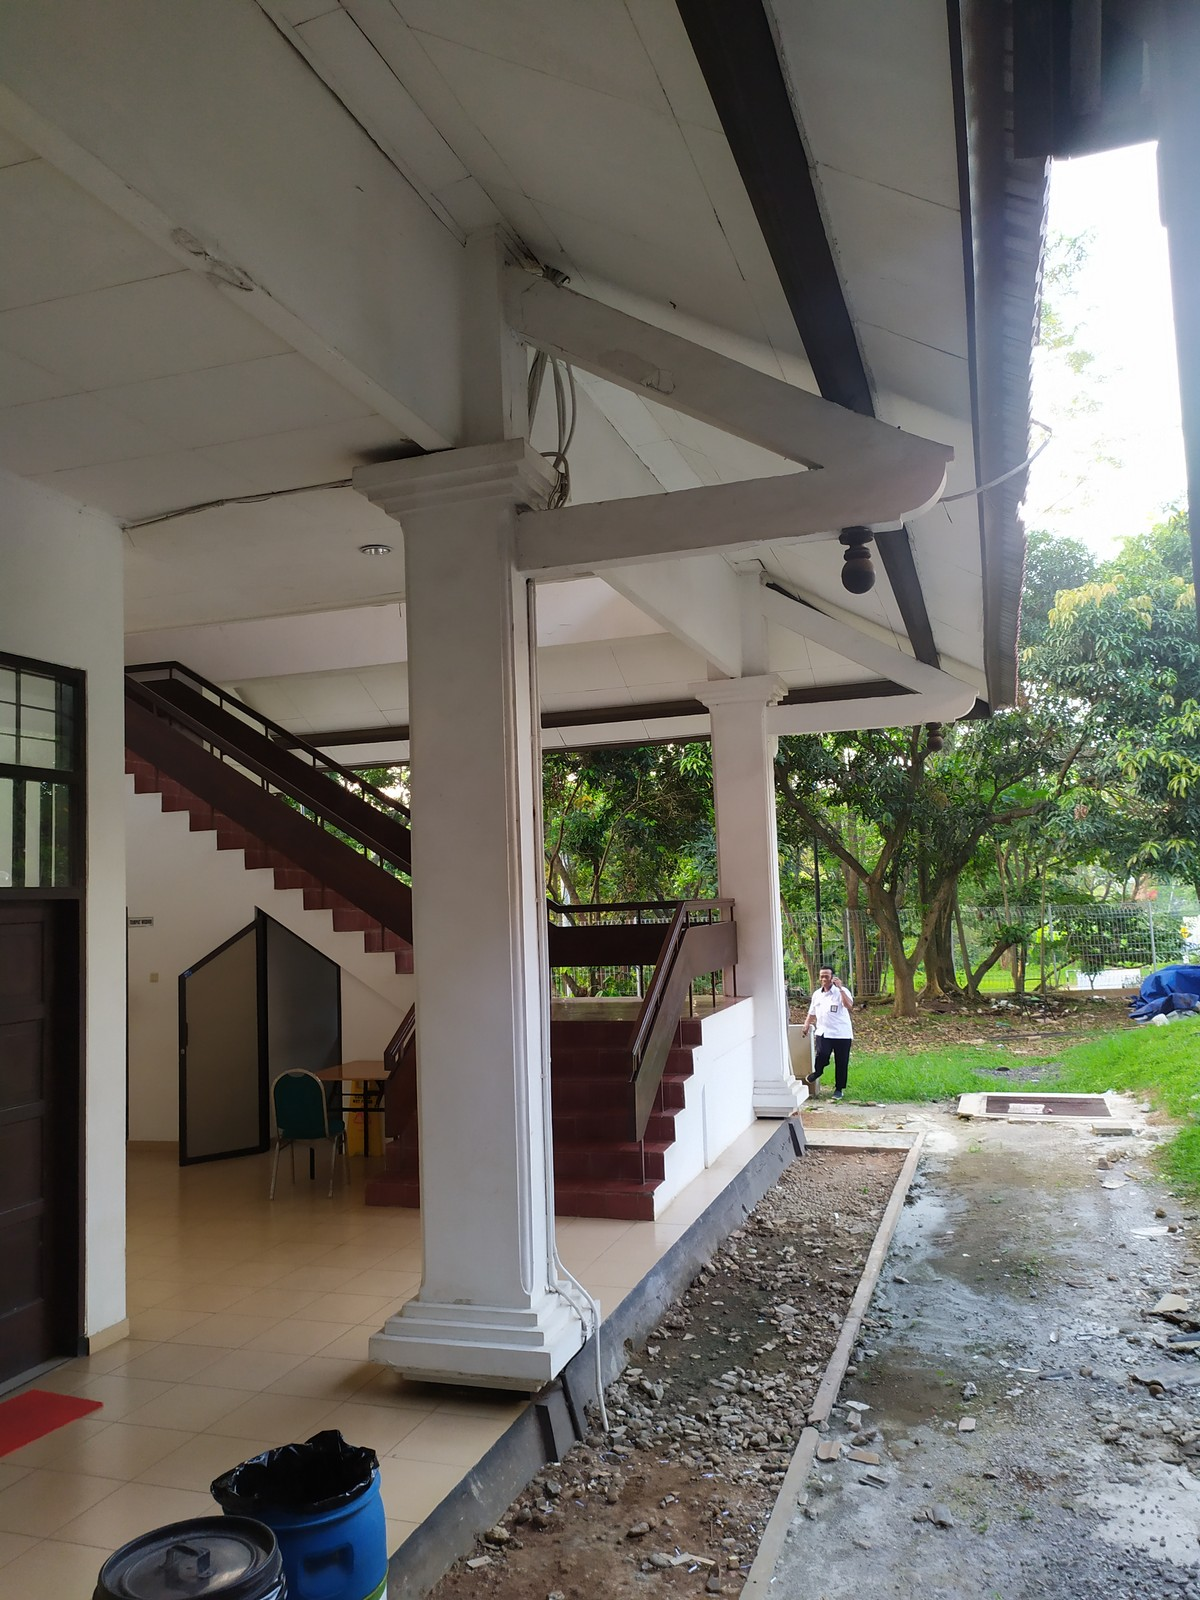concrete beam: (498, 477, 805, 586), (747, 693, 932, 745)
concrete column: (395, 517, 584, 1305), (706, 716, 800, 1099)
